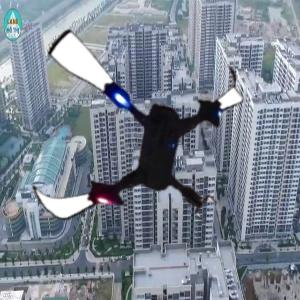drone: (8, 8, 252, 252)
